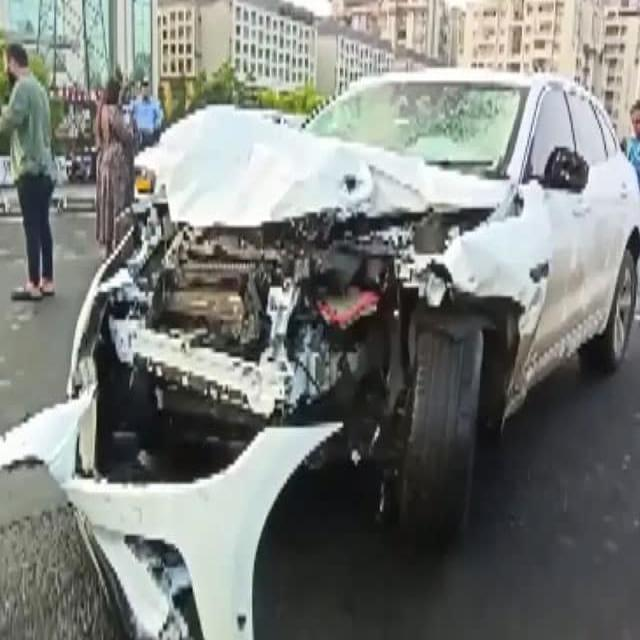crush: (0, 103, 549, 640)
